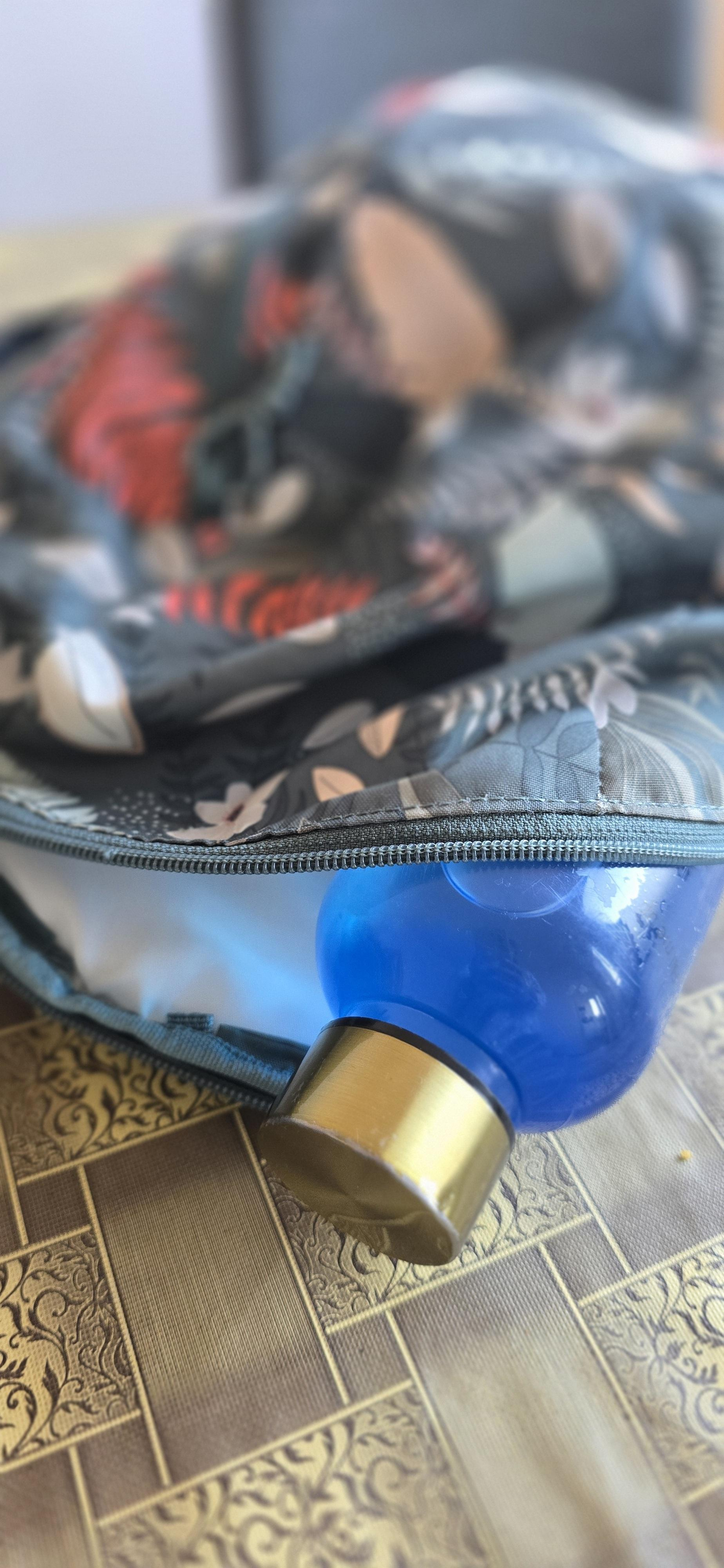bottle: (291, 844, 724, 1289)
